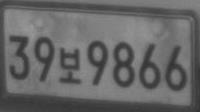3: (8, 34, 30, 79)
6: (138, 42, 161, 89), (164, 45, 187, 91)
8: (112, 41, 135, 87)
9: (86, 40, 108, 85), (33, 36, 54, 81)
보: (58, 46, 81, 84)
